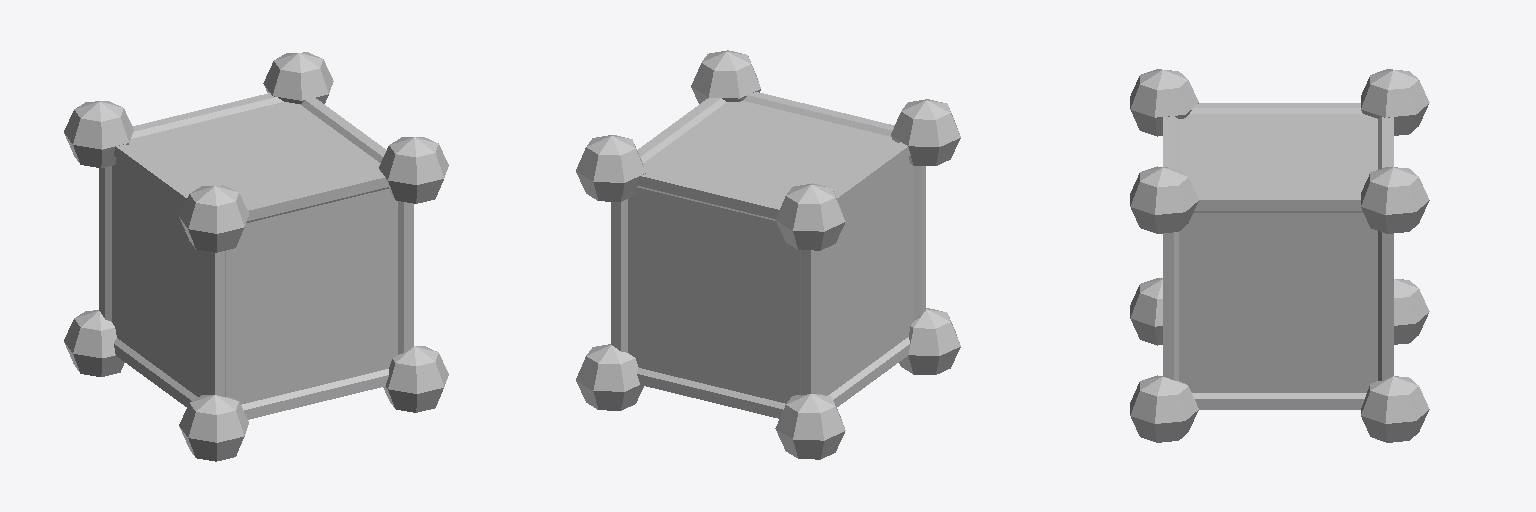
File: bosscube.obj
The picture shows the model from 3 angles: view 1: azimuth 30°, elevation 25°; view 2: azimuth 150°, elevation 25°; view 3: azimuth 270°, elevation 25°; orthographic projection.
Parts seen in each view (by area): view 1: Sphere; view 2: Sphere; view 3: Sphere.
Boxes of the visible parts, x1,y1,x2,y2 form: Sphere: [64, 52, 448, 461]; Sphere: [576, 50, 960, 459]; Sphere: [1130, 69, 1429, 442].
Size of the model in its own units: 26.13 by 26.29 by 25.98.